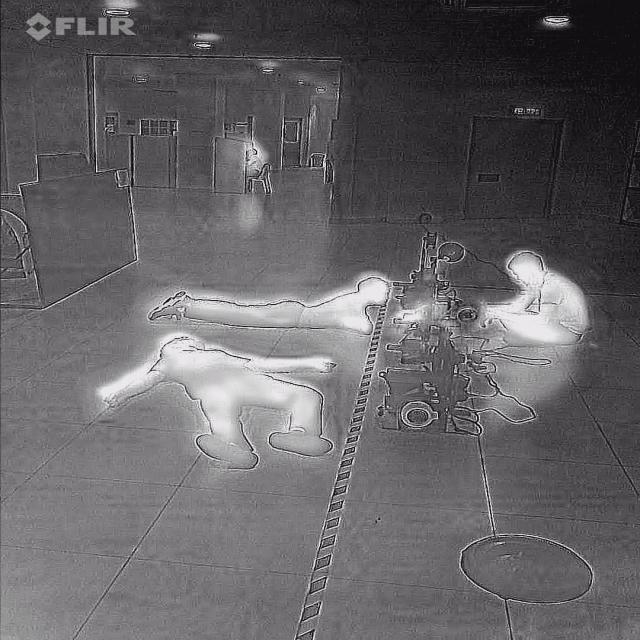Victim: (92, 334, 342, 469), (143, 270, 394, 338), (474, 244, 597, 342)
